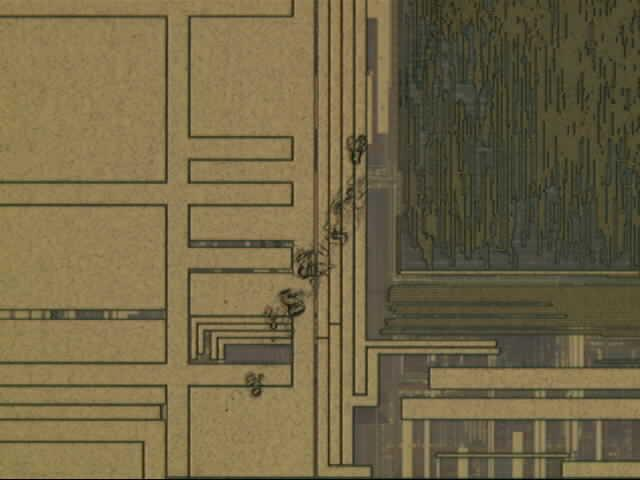SCRATCH: (235, 129, 380, 405)
